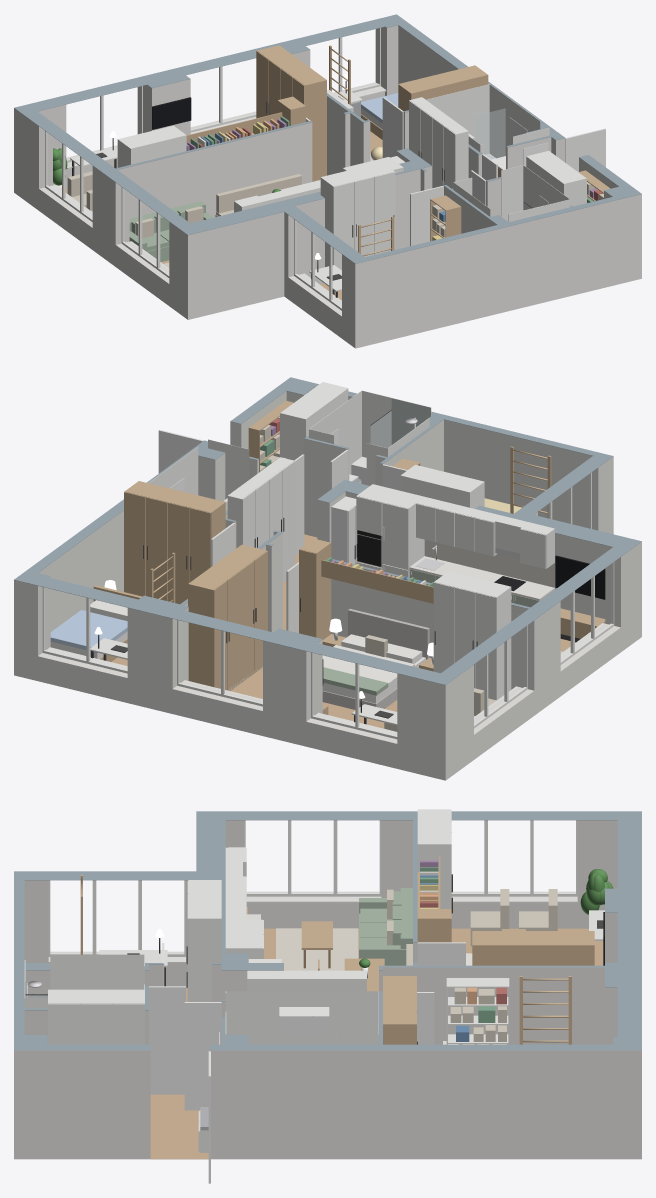
The picture shows the model from 3 angles, top to bottom: view 1: azimuth 30°, elevation 25°; view 2: azimuth 150°, elevation 25°; view 3: azimuth 270°, elevation 25°; orthographic projection. The views are drawn at different scales.
Parts seen in each view (by area): view 1: wall, white, wallcap, oak, tile_wall, white_gloss, fabric_sand, fabric_green, glass, screen, mirror, bed_blue; view 2: wall, white, oak, wallcap, tile_wall, white_gloss, linen, upholstery, backsplash, bed_blue, oak_floor, worktop (+7 smaller); view 3: wall, white, wallcap, oak, white_gloss, tile_wall, oak_floor, fabric_sand, fabric_green, rug_sand, leaf.
Part boxes in pixels (bbox=[...]): wall: bbox=[14, 25, 641, 348]; white: bbox=[45, 28, 586, 310]; wallcap: bbox=[14, 14, 641, 263]; oak: bbox=[186, 45, 609, 255]; tile_wall: bbox=[426, 84, 570, 221]; white_gloss: bbox=[306, 97, 605, 246]; fabric_sand: bbox=[67, 171, 603, 238]; fabric_green: bbox=[129, 201, 213, 261]; glass: bbox=[476, 108, 531, 209]; screen: bbox=[153, 98, 190, 129]; mirror: bbox=[509, 117, 548, 206]; bed_blue: bbox=[361, 93, 398, 123]; wall: bbox=[14, 388, 641, 780]; white: bbox=[42, 382, 614, 739]; oak: bbox=[93, 400, 605, 714]; wallcap: bbox=[14, 377, 641, 685]; tile_wall: bbox=[148, 390, 431, 511]; white_gloss: bbox=[158, 430, 407, 633]; linen: bbox=[50, 600, 425, 703]; upholstery: bbox=[322, 609, 429, 709]; backsplash: bbox=[424, 539, 554, 587]; bed_blue: bbox=[50, 610, 127, 652]; oak_floor: bbox=[111, 534, 575, 728]; worktop: bbox=[409, 556, 554, 600]; wall: bbox=[14, 820, 641, 1159]; white: bbox=[48, 809, 604, 1152]; wallcap: bbox=[14, 811, 641, 1050]; oak: bbox=[80, 855, 594, 1044]; white_gloss: bbox=[149, 942, 465, 1183]; tile_wall: bbox=[24, 954, 378, 1044]; oak_floor: bbox=[150, 928, 603, 1159]; fabric_sand: bbox=[387, 889, 557, 1044]; fabric_green: bbox=[359, 888, 412, 965]; rug_sand: bbox=[276, 928, 358, 970]; leaf: bbox=[359, 869, 613, 967].
Size of the model in its own units: 10.98 by 2.5 by 11.03.
